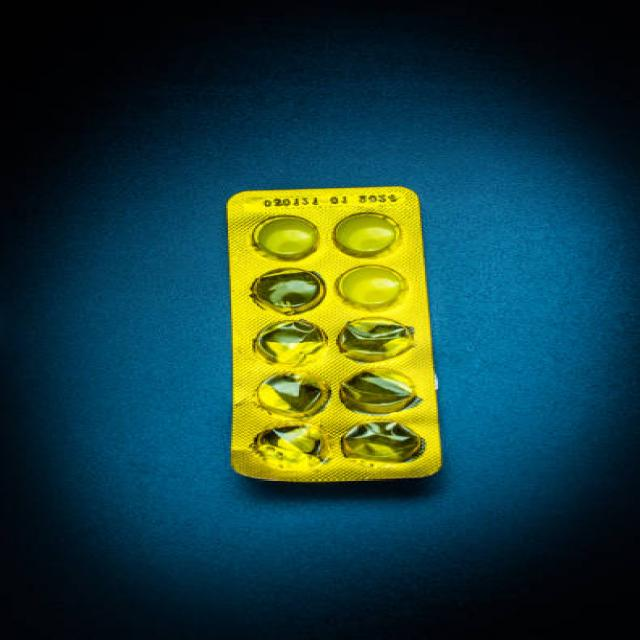Empty: (247, 418, 336, 476), (336, 368, 428, 419), (246, 265, 330, 315), (331, 318, 416, 367), (336, 424, 432, 466), (250, 368, 330, 414), (247, 319, 326, 361)
Pill: (238, 201, 329, 263), (333, 204, 406, 268), (331, 266, 414, 312)
